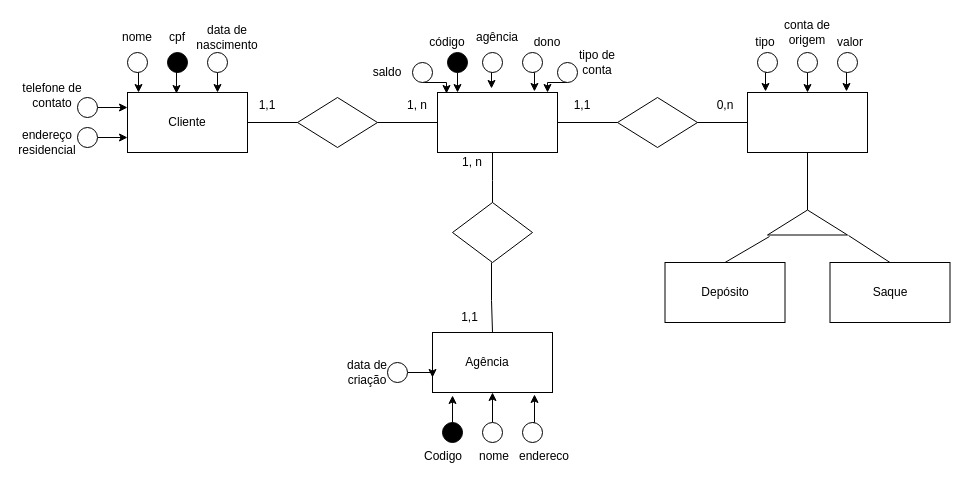
Image size: 967x499. Some labels were removed from this diagram. Here are the shapes that lost their labels. From the top down, the centre of each, then its label:
At (497,122): "Conta".
At (807,122): "Transações".
